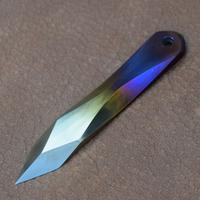knife: (12, 24, 178, 189)
